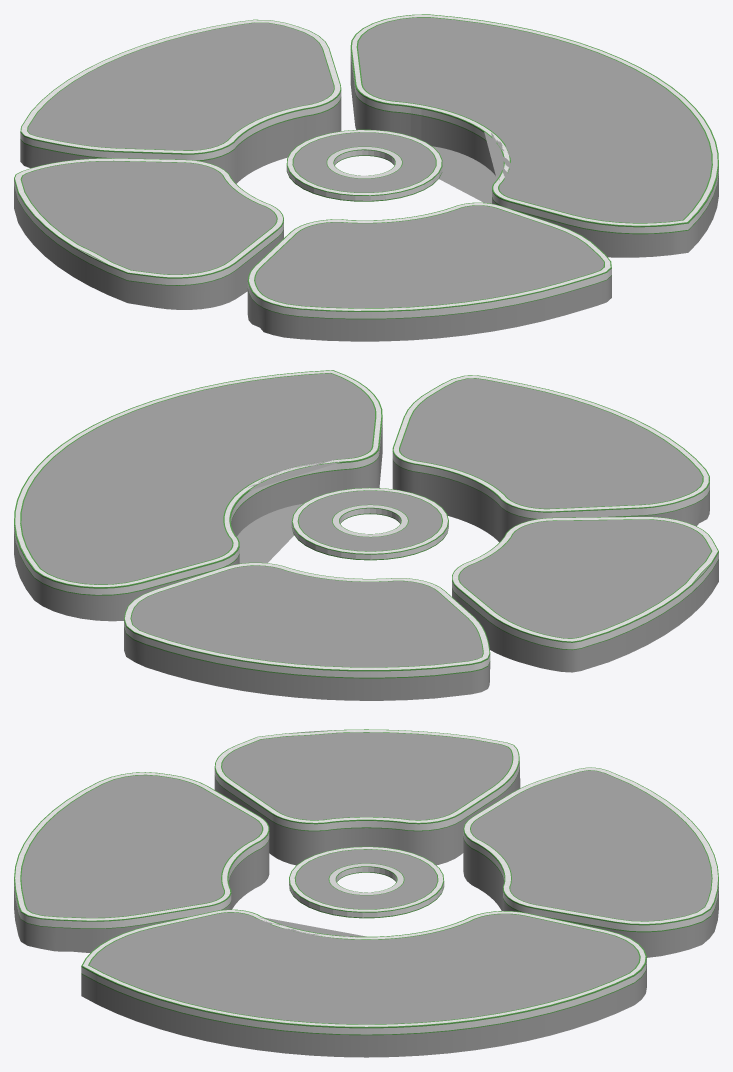
The model's file is FloorPlatforms.fbx.
The picture shows the model from 3 angles, top to bottom: view 1: azimuth 30°, elevation 25°; view 2: azimuth 150°, elevation 25°; view 3: azimuth 270°, elevation 25°; orthographic projection.
Parts seen in each view (by area): view 1: FloorPlatforms; view 2: FloorPlatforms; view 3: FloorPlatforms.
Boxes of the visible parts, <box> form: FloorPlatforms: <box>14,14,718,341</box>; FloorPlatforms: <box>14,370,718,700</box>; FloorPlatforms: <box>14,729,718,1057</box>.
Size of the model in its own units: 1346 by 93.87 by 1346.
